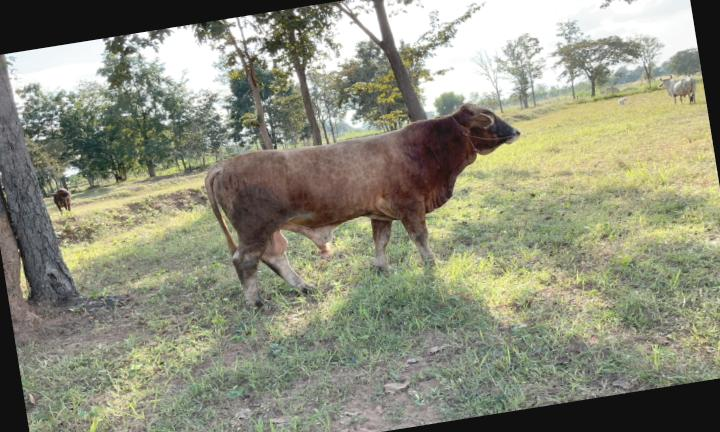Charolais: (205, 103, 520, 305)
